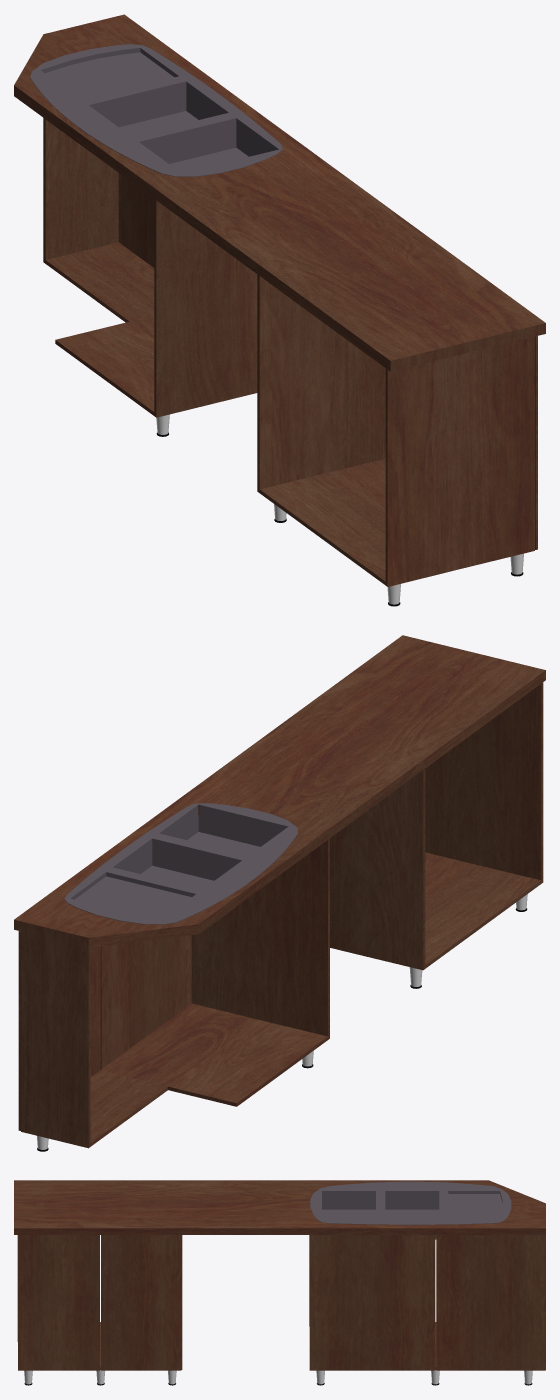
File: cabinet.fbx
The picture shows the model from 3 angles, top to bottom: view 1: azimuth 30°, elevation 25°; view 2: azimuth 150°, elevation 25°; view 3: azimuth 270°, elevation 25°; orthographic projection. The views are drawn at different scales.
Visible parts, largest first — view 1: cabinet, sink, cabinet_door2; view 2: cabinet, sink, cabinet_door2; view 3: cabinet_door2, cabinet_door1, cabinet, sink.
Part boxes in pixels (x1,y1,x2,y2): cabinet: [14, 14, 545, 586]; sink: [30, 44, 282, 176]; cabinet_door2: [118, 173, 154, 267]; cabinet: [14, 635, 545, 1148]; sink: [64, 803, 297, 924]; cabinet_door2: [18, 931, 191, 1130]; cabinet_door2: [309, 1235, 545, 1370]; cabinet_door1: [18, 1235, 181, 1370]; cabinet: [14, 1180, 545, 1369]; sink: [310, 1181, 511, 1239].
Bounding box in the file's own units: 60 × 94.24 × 282.
